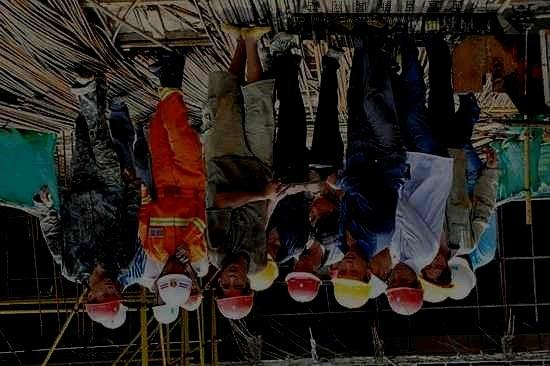helmet: (332, 251, 373, 309), (215, 264, 254, 320), (385, 262, 425, 315), (417, 253, 457, 304), (284, 250, 323, 302), (248, 229, 280, 292), (155, 257, 193, 306), (83, 277, 121, 322), (448, 254, 478, 300), (367, 255, 392, 298), (152, 285, 179, 324), (100, 303, 129, 328), (181, 280, 204, 311)
